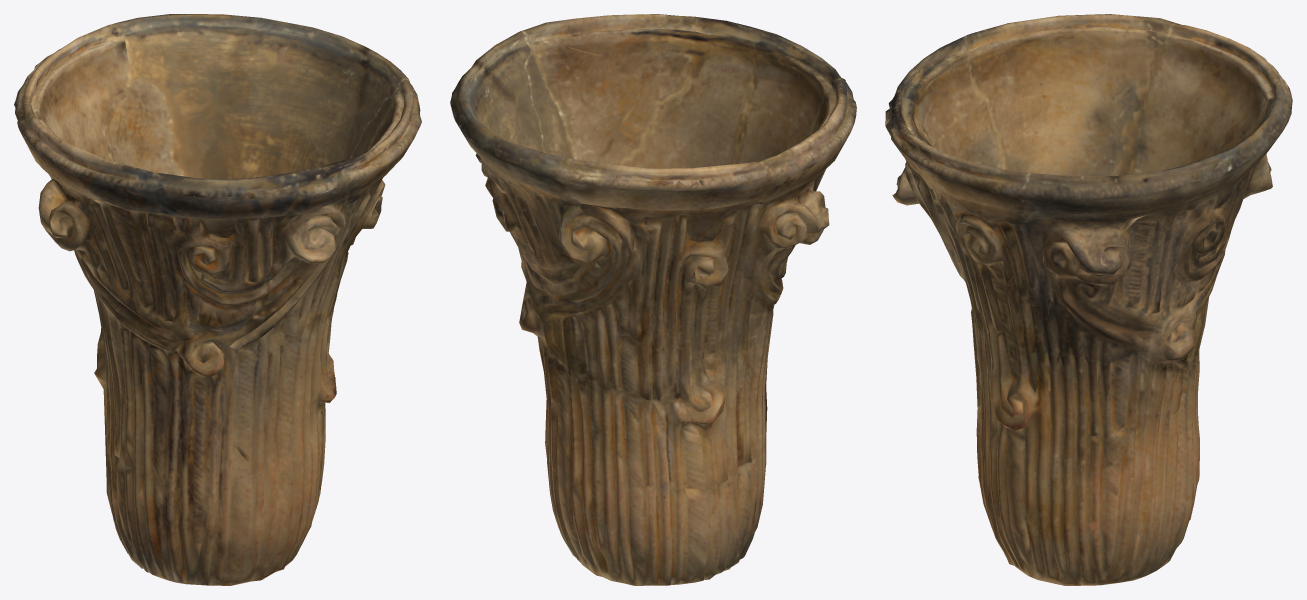
3 renders of one model, left to right at view 1: azimuth 30°, elevation 25°; view 2: azimuth 150°, elevation 25°; view 3: azimuth 270°, elevation 25°, orthographic.
Parts seen in each view (by area): view 1: NM0009_low; view 2: NM0009_low; view 3: NM0009_low.
Boxes of the visible parts, x1,y1,x2,y2 form: NM0009_low: [14, 14, 421, 585]; NM0009_low: [450, 14, 856, 585]; NM0009_low: [885, 14, 1292, 585].
Bounding box in the file's own units: 192 × 242 × 191.
1 material, 1 textured.
